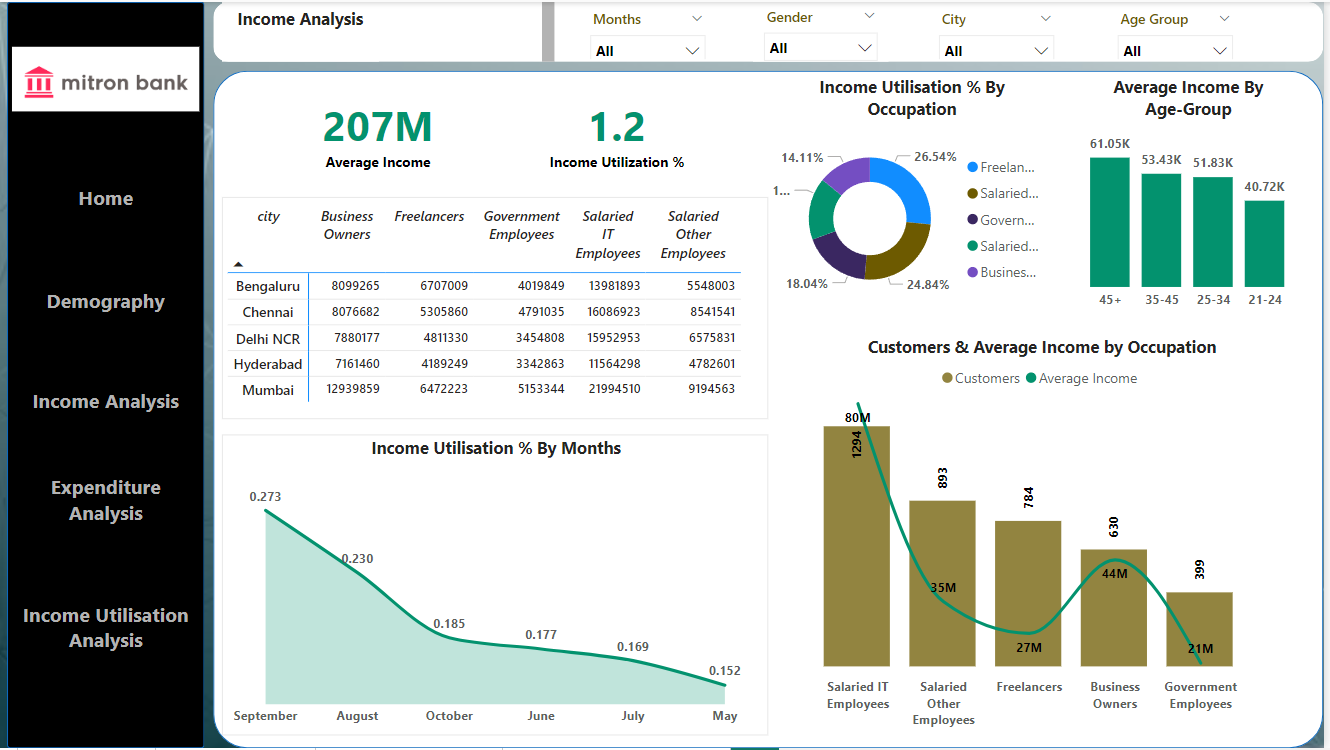

This screenshot's page, from the dashboard's own definition file:
{"tool":"powerbi","page":{"name":"Income Analysis","canvas":[1280,720],"ordinal":2},"visuals":[{"type":"shape","box":[9.7,0,190.6,720.2],"z":0},{"type":"shape","box":[208.7,0,1071.3,57.9],"z":1000},{"type":"actionButton","box":[9.7,154.4,190.6,67.6],"z":2000},{"type":"actionButton","box":[9.7,349.9,190.6,67.6],"z":3000},{"type":"actionButton","box":[9.7,446.4,190.6,67.6],"z":4000},{"type":"actionButton","box":[9.7,550.1,190.6,105],"z":5000},{"type":"actionButton","box":[9.7,253.4,190.6,67.6],"z":6000},{"type":"textbox","box":[217.2,0,150.8,57.9],"z":7000},{"type":"shape","box":[526,0,12.1,57.9],"z":8000},{"type":"slicer","fields":{"Values":["fact_spends.month"]},"box":[562.2,2.4,131.5,53.1],"z":9000},{"type":"slicer","fields":{"Values":["dim_customers.gender"]},"box":[729.9,0,130.3,57.9],"z":10000},{"type":"slicer","fields":{"Values":["dim_customers.age_group"]},"box":[1071.3,2.4,131.5,53.1],"z":11000},{"type":"slicer","fields":{"Values":["dim_customers.city"]},"box":[898.8,2.4,131.5,53.1],"z":12000},{"type":"shape","box":[208.7,66.4,1071.3,653.9],"z":13000},{"type":"card","fields":{"Values":["Sum(dim_customers.avg_income)"]},"box":[295.6,70,144.8,113.4],"z":14000},{"type":"card","fields":{"Values":["dim_customers.Income Utilization %"]},"box":[526,70,144.8,113.4],"z":15000},{"type":"clusteredColumnChart","title":"Average Income By Age-Group","fields":{"Category":["dim_customers.age_group"],"Y":["Avg(dim_customers.avg_income)"]},"box":[1030.3,70,238.9,235.3],"z":16000},{"type":"pivotTable","fields":{"Columns":["dim_customers.occupation"],"Rows":["dim_customers.city"],"Values":["Sum(dim_customers.avg_income)"]},"box":[217.2,188.2,527.2,214.7],"z":17000},{"type":"lineChart","title":"Income Utilisation % By Months","fields":{"Category":["fact_spends.month"],"Y":["dim_customers.Income Utilization %"]},"box":[217.2,417.4,527.2,290.8],"z":18000},{"type":"donutChart","title":"Income Utilisation % By Occupation","fields":{"Category":["dim_customers.occupation"],"Y":["dim_customers.Income Utilization %"]},"box":[744.4,70,277.5,235.3],"z":19000},{"type":"lineClusteredColumnComboChart","title":"Customers & Average Income by Occupation","fields":{"Y":["dim_customers.Total Customers"],"Category":["dim_customers.occupation"],"Y2":["Sum(dim_customers.avg_income)"]},"box":[748,320.9,521.2,387.3],"z":20000},{"type":"image","box":[9.7,0,190.6,149.6],"z":21000}]}

Visuals, with their boxes in screenshot pixels (x1, y1, x2, y2), scaled from the page's 1280x720 canvas onto the 1330x750 screenshot:
shape: <region>10, 0, 208, 749</region>
shape: <region>217, 0, 1329, 60</region>
actionButton: <region>10, 161, 208, 231</region>
actionButton: <region>10, 364, 208, 435</region>
actionButton: <region>10, 465, 208, 535</region>
actionButton: <region>10, 573, 208, 682</region>
actionButton: <region>10, 264, 208, 334</region>
textbox: <region>226, 0, 382, 60</region>
shape: <region>547, 0, 559, 60</region>
slicer - fact_spends.month: <region>584, 2, 721, 58</region>
slicer - dim_customers.gender: <region>758, 0, 894, 60</region>
slicer - dim_customers.age_group: <region>1113, 2, 1250, 58</region>
slicer - dim_customers.city: <region>934, 2, 1071, 58</region>
shape: <region>217, 69, 1329, 749</region>
card - Sum(dim_customers.avg_income): <region>307, 73, 458, 191</region>
card - dim_customers.Income Utilization %: <region>547, 73, 697, 191</region>
"Average Income By Age-Group" clusteredColumnChart: <region>1071, 73, 1319, 318</region>
pivotTable - dim_customers.occupation x dim_customers.city: <region>226, 196, 773, 420</region>
"Income Utilisation % By Months" lineChart: <region>226, 435, 773, 738</region>
"Income Utilisation % By Occupation" donutChart: <region>773, 73, 1062, 318</region>
"Customers & Average Income by Occupation" lineClusteredColumnComboChart: <region>777, 334, 1319, 738</region>
image: <region>10, 0, 208, 156</region>
